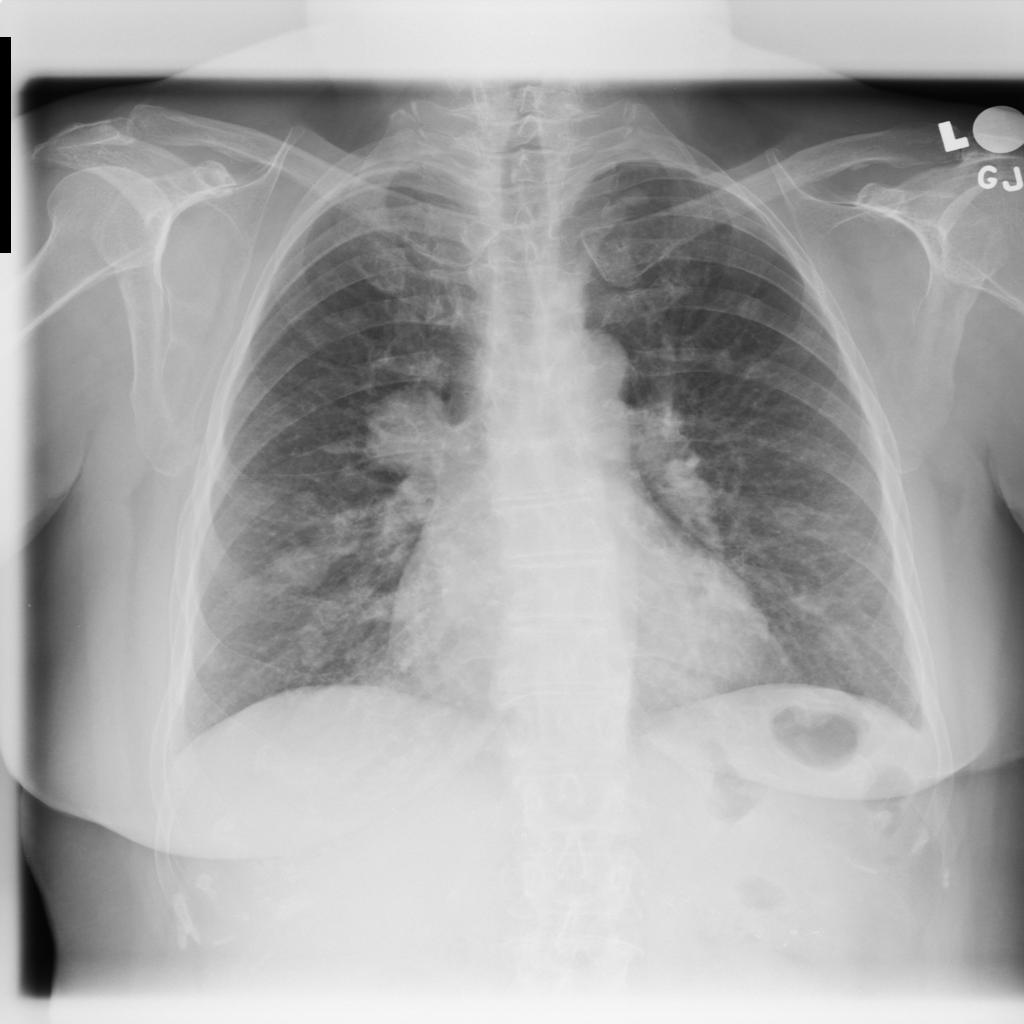nodule: (355, 379, 476, 492), (803, 609, 884, 672), (261, 532, 337, 599), (285, 622, 341, 672), (761, 495, 819, 543), (706, 335, 757, 385), (276, 480, 335, 522), (725, 284, 777, 330), (607, 179, 664, 218)
